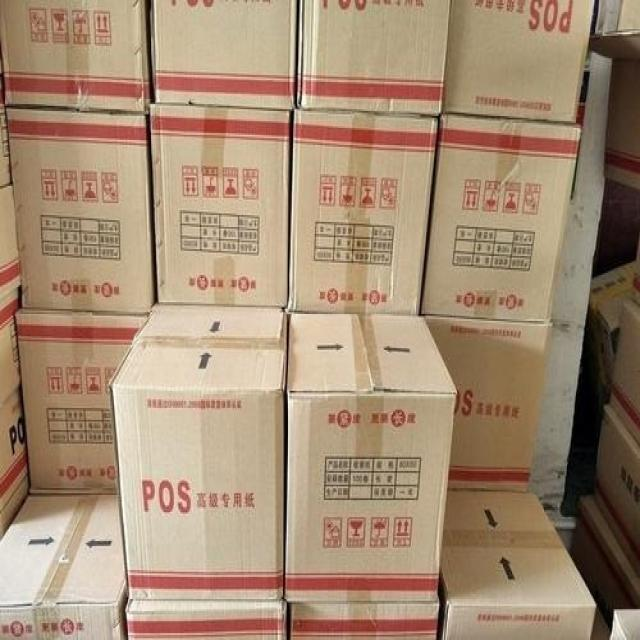box: (108, 302, 288, 601), (284, 312, 457, 601), (420, 113, 582, 324), (285, 106, 438, 316), (5, 108, 156, 314), (150, 102, 289, 307), (15, 309, 148, 495), (439, 490, 596, 640), (422, 312, 552, 492), (442, 0, 595, 125), (0, 492, 125, 640), (297, 0, 451, 116), (150, 0, 297, 109), (570, 495, 640, 640), (593, 404, 640, 580), (589, 32, 640, 193), (125, 601, 287, 640), (589, 259, 635, 393), (291, 601, 439, 640), (0, 386, 29, 539), (611, 294, 640, 447), (0, 183, 22, 326), (0, 314, 20, 410), (0, 44, 12, 188)
